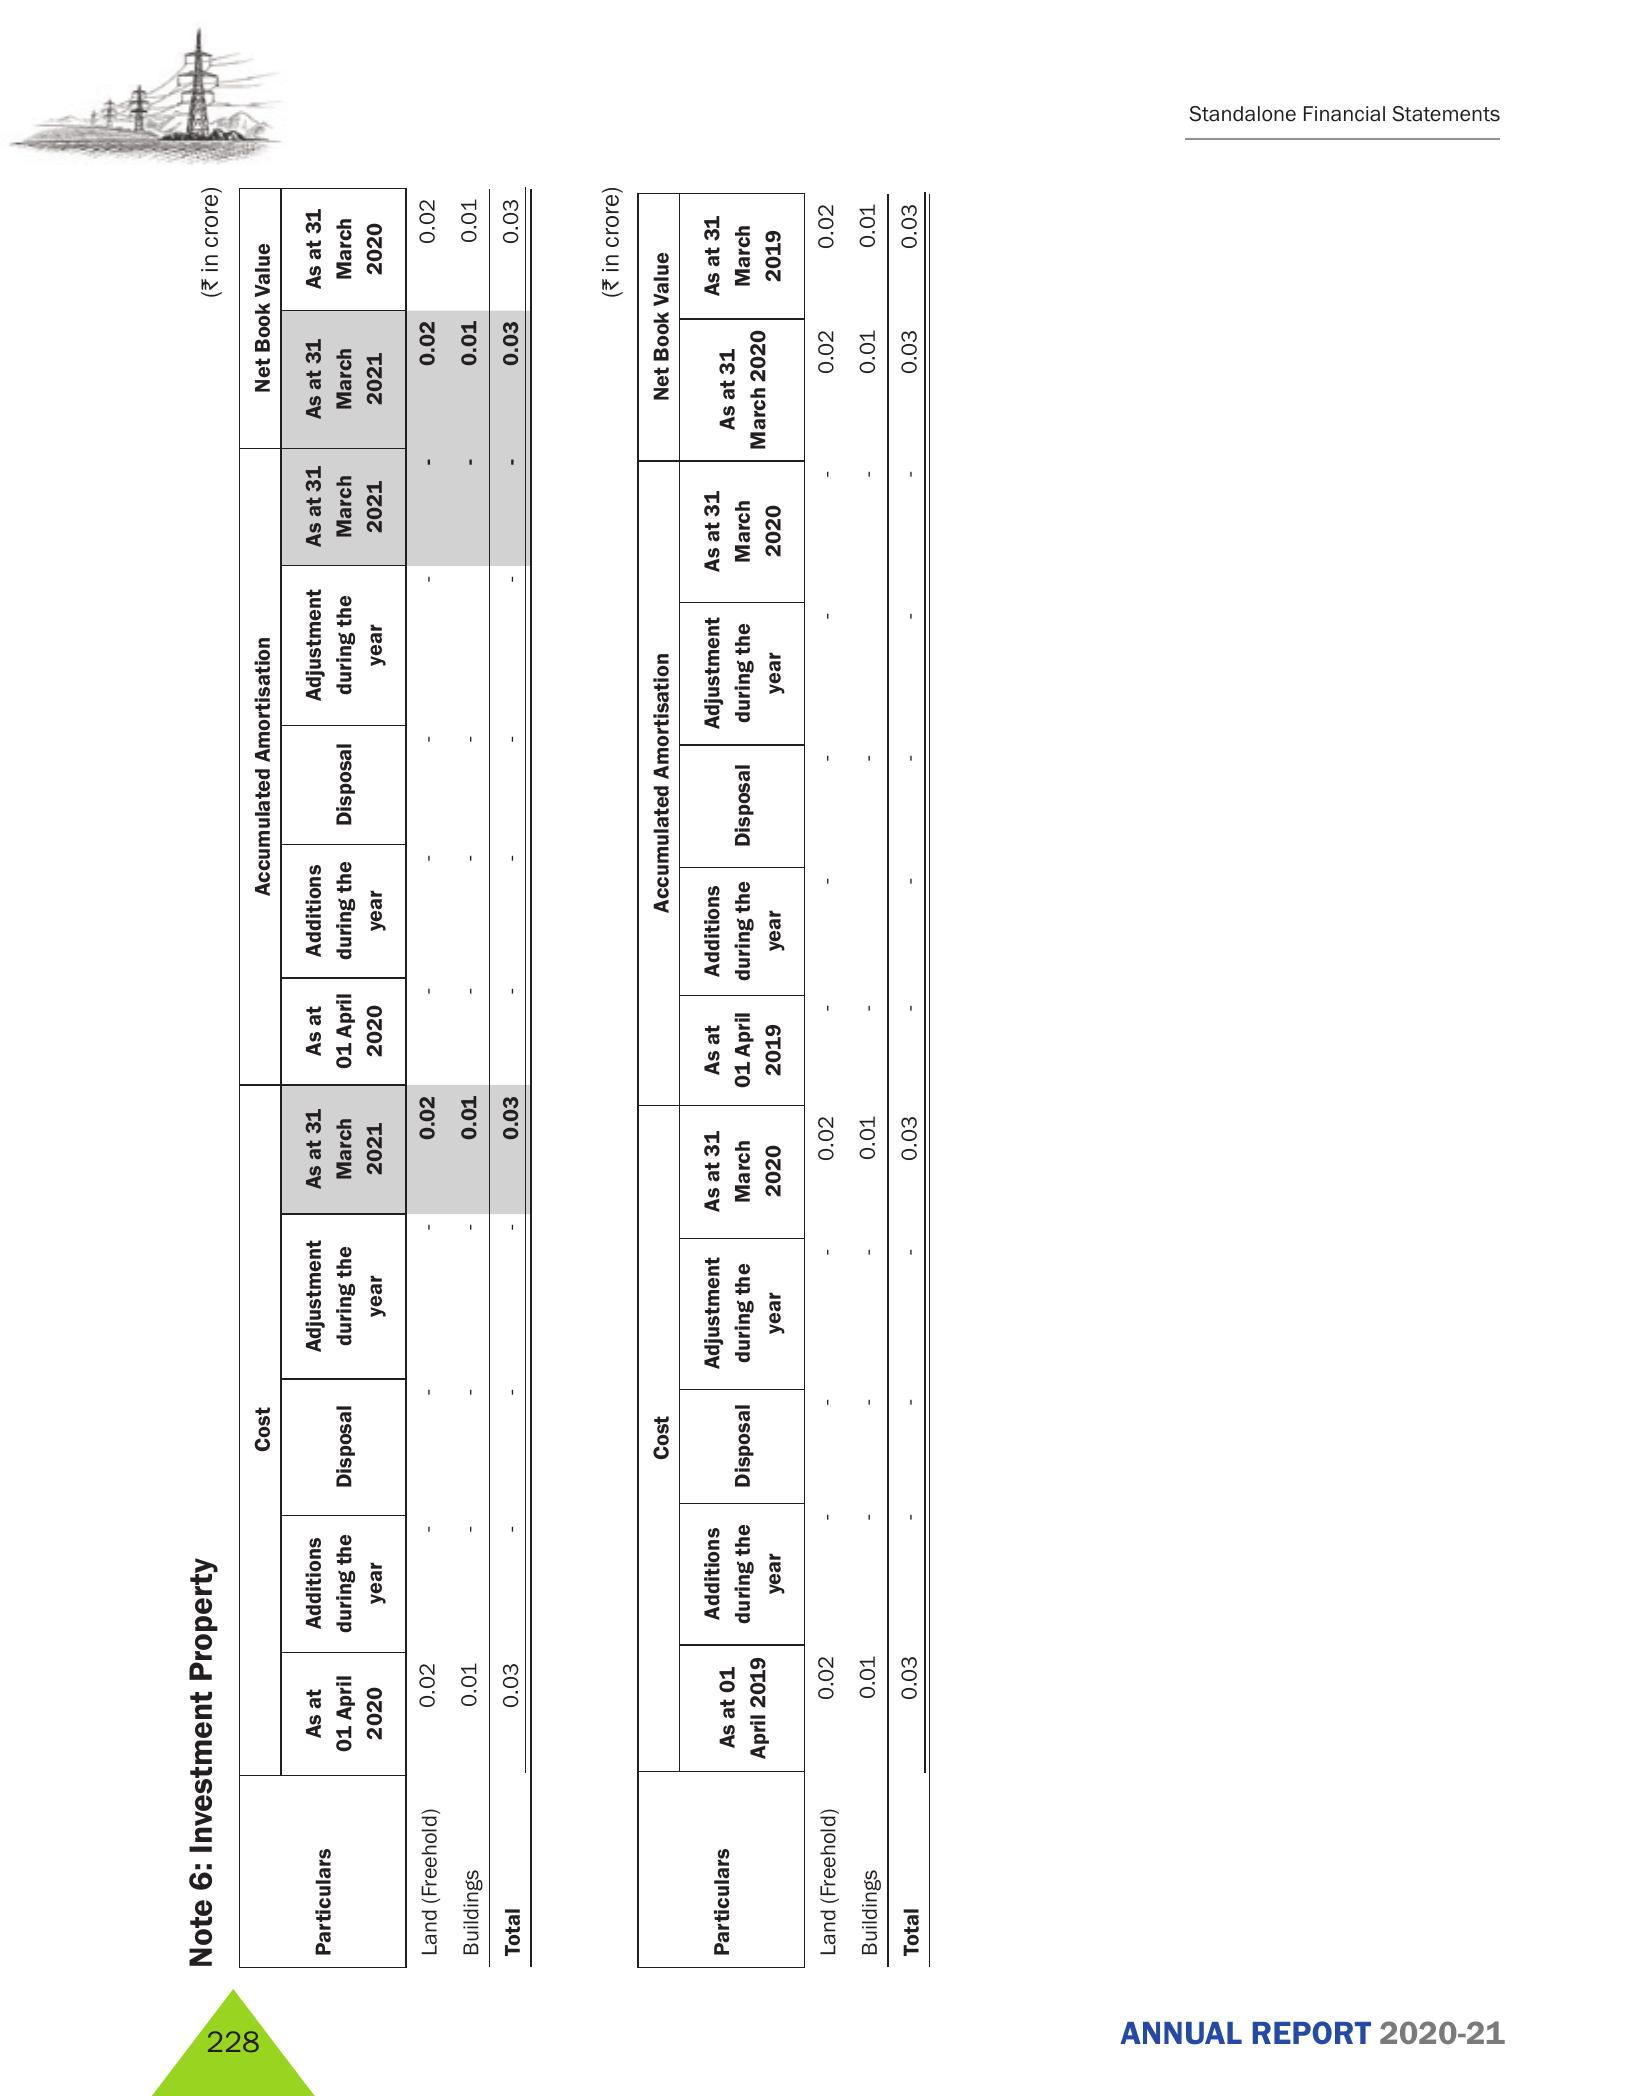Footer: (0, 1974, 1650, 2096)
Header: (0, 0, 1650, 172)
Table: (604, 184, 980, 1991), (233, 180, 565, 1965)
